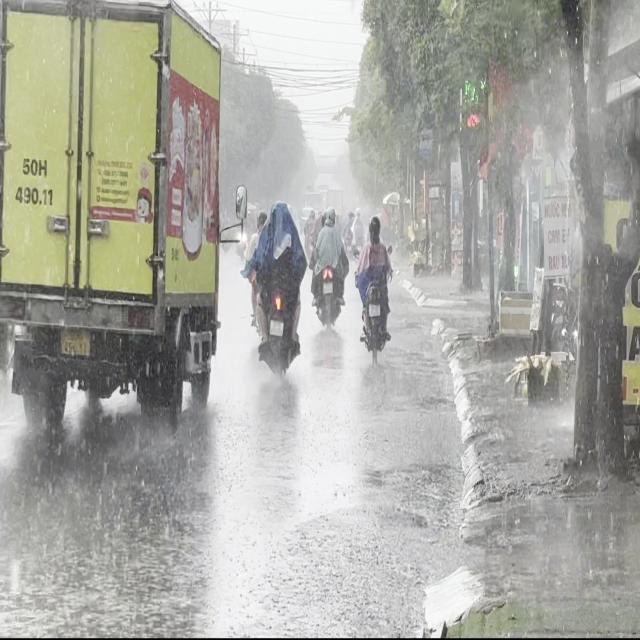licenseplate: (251, 199, 305, 379)
nohelmet: (269, 319, 283, 335)
